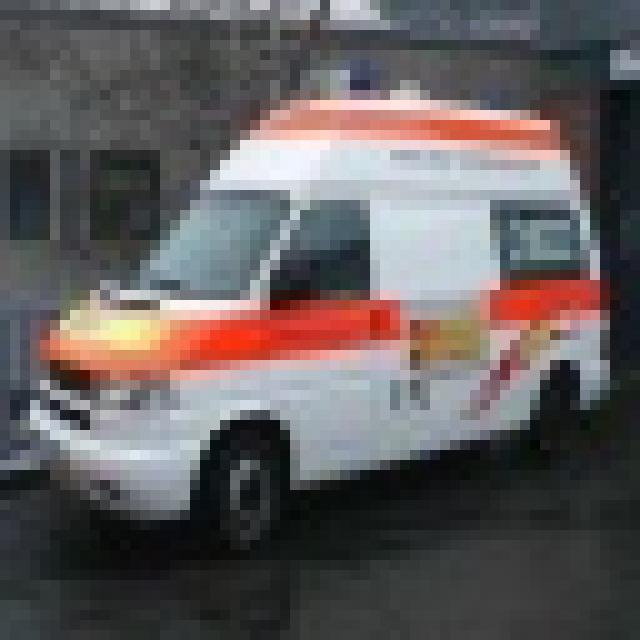Ambulance: (20, 70, 610, 550)
